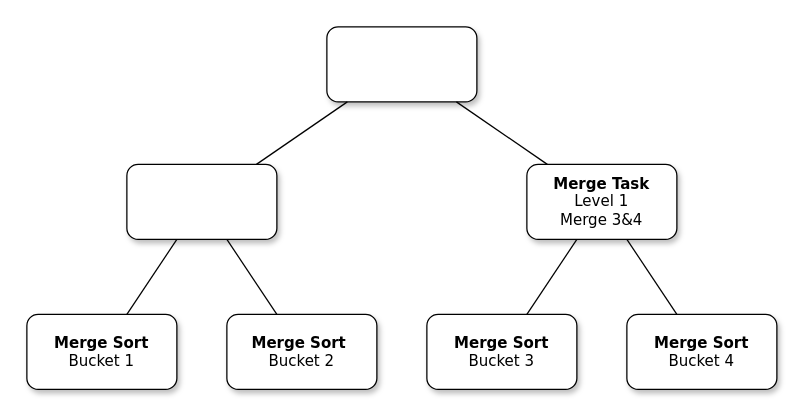
Image size: 806x420. Some labels were removed from this diagram. The centre of each missing label's shape, as x and y in pixels:
"Merge Task Level 1 Merge 1&2" goes at point 202,203.
"Root Task Merge L1 & L2" goes at point 402,66.
